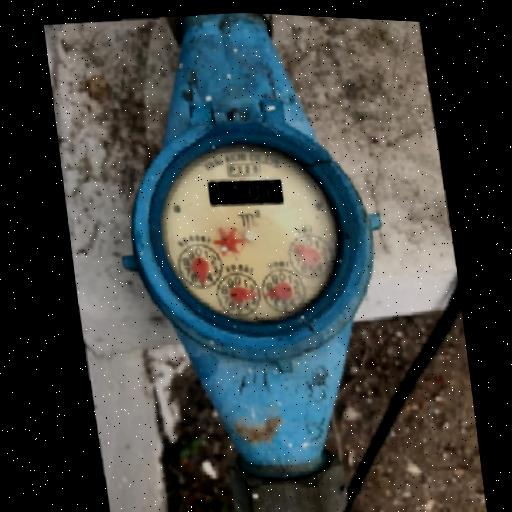0: (246, 180, 265, 205)
1: (209, 181, 230, 207), (227, 180, 247, 206)
8: (263, 178, 285, 204)
border_water_meter_number: (207, 174, 285, 210)
